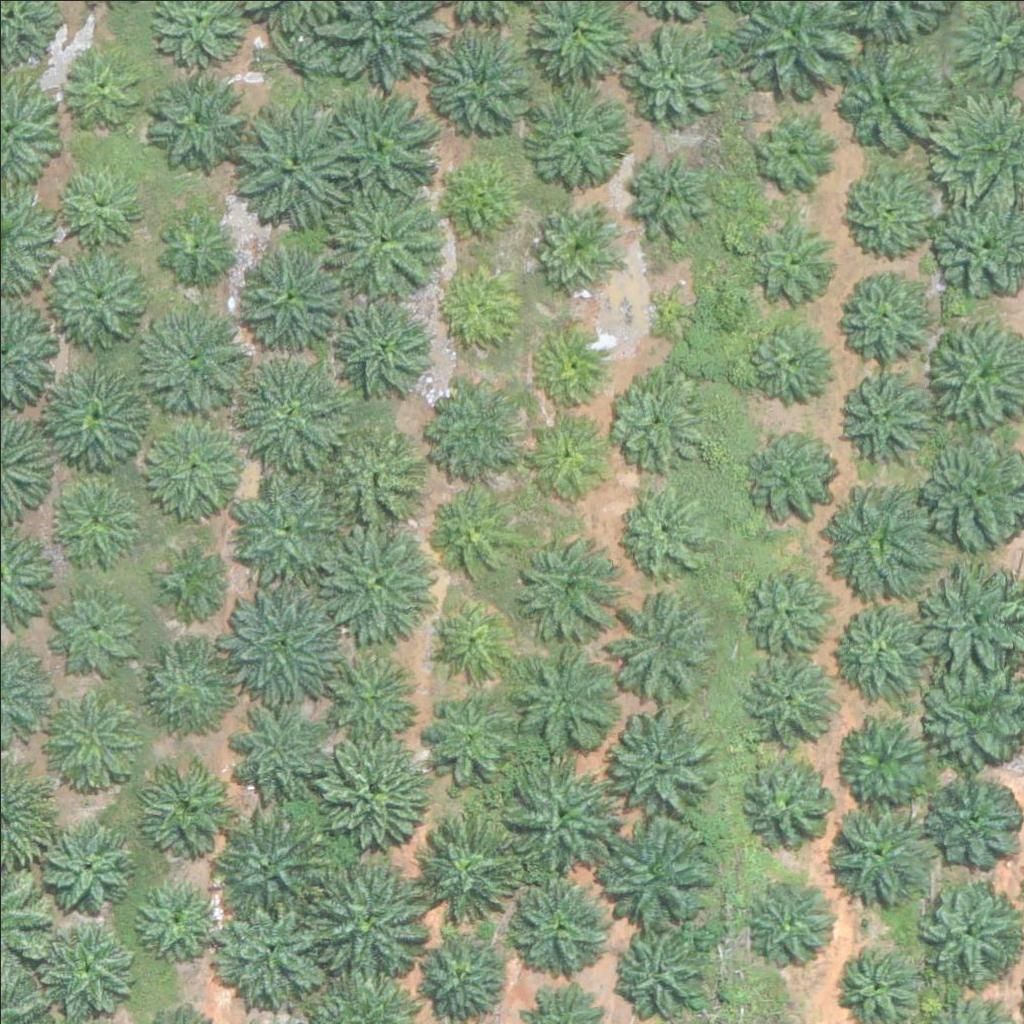Kelapa_Sawit: (314, 178, 439, 304), (315, 93, 440, 219), (227, 111, 352, 237), (38, 358, 151, 472), (413, 810, 526, 924), (133, 404, 246, 517), (231, 355, 344, 468), (227, 589, 340, 702), (315, 860, 428, 973), (318, 740, 431, 853), (420, 680, 533, 793), (821, 486, 934, 599), (311, 521, 423, 635), (509, 645, 621, 759), (512, 529, 624, 643), (603, 813, 715, 927), (137, 297, 249, 411), (229, 471, 341, 584), (210, 809, 322, 922), (215, 896, 327, 1009), (504, 755, 616, 868), (828, 798, 940, 911), (911, 870, 1023, 983), (237, 240, 349, 353), (32, 236, 144, 349), (224, 714, 324, 815), (620, 594, 720, 695), (744, 866, 844, 967), (739, 645, 839, 746), (738, 556, 838, 657), (829, 604, 929, 705), (837, 712, 937, 813), (430, 29, 530, 130), (135, 753, 235, 853), (320, 432, 420, 532), (507, 877, 607, 977), (611, 375, 711, 475), (616, 708, 716, 808), (735, 752, 835, 852), (835, 162, 935, 262), (839, 45, 939, 145), (623, 26, 723, 126), (521, 86, 621, 186), (139, 64, 239, 164), (433, 383, 521, 472), (426, 597, 514, 685), (50, 475, 138, 563), (46, 929, 134, 1017), (136, 875, 224, 963), (337, 651, 425, 739), (434, 485, 522, 573), (623, 489, 711, 577), (839, 375, 927, 463), (523, 324, 611, 412), (743, 322, 830, 411), (44, 699, 131, 787), (45, 825, 132, 913), (143, 644, 230, 732), (522, 409, 609, 497), (747, 430, 834, 518), (837, 267, 924, 355), (337, 302, 424, 390), (437, 163, 512, 239), (53, 585, 128, 661), (540, 206, 615, 282), (439, 267, 514, 343), (154, 204, 229, 280), (756, 108, 831, 183), (756, 224, 831, 299), (622, 157, 697, 232), (57, 167, 132, 242), (60, 42, 135, 117), (158, 550, 221, 613), (253, 27, 315, 90), (650, 280, 700, 330)
